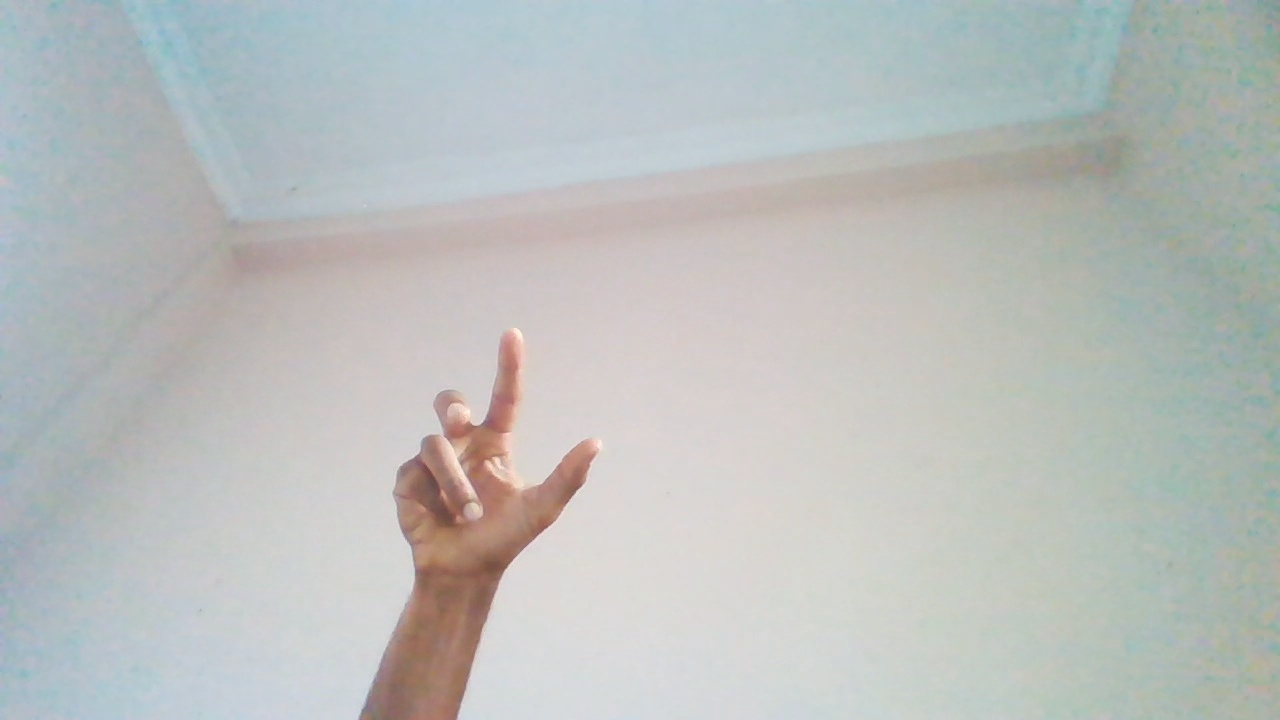hhe: (388, 326, 603, 672)
